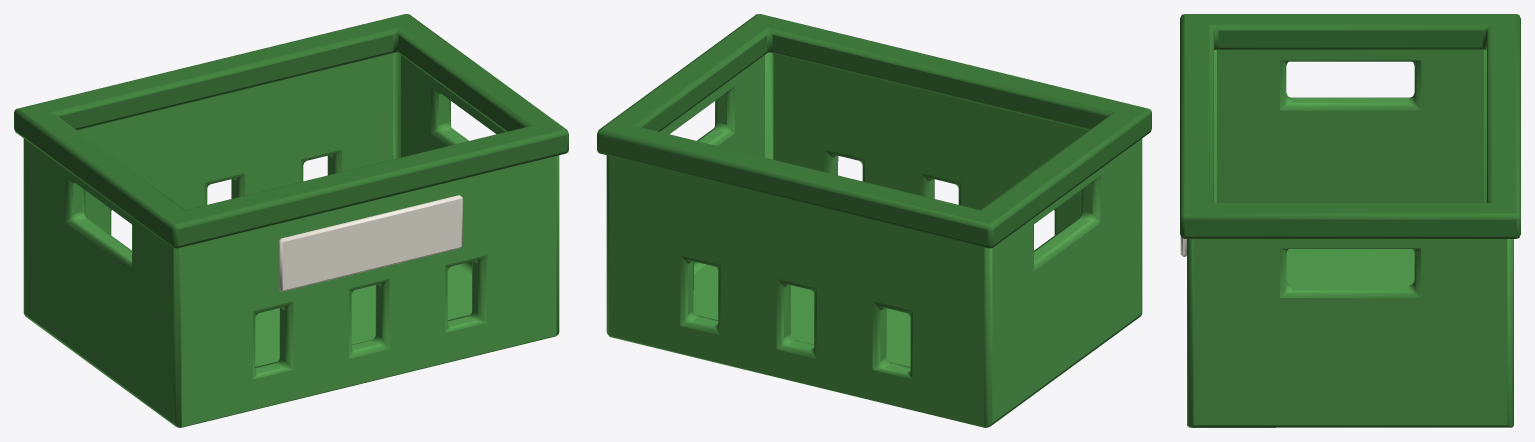
Rendered from Kitchen_Crate.fbx.
The picture shows the model from 3 angles, left to right: view 1: azimuth 30°, elevation 25°; view 2: azimuth 150°, elevation 25°; view 3: azimuth 270°, elevation 25°; orthographic projection. The views are drawn at different scales.
Parts seen in each view (by area): view 1: Body, Trim, Label; view 2: Body, Trim; view 3: Body, Trim.
Boxes of the visible parts, x1,y1,x2,y2 form: Body: (23, 52, 559, 427); Trim: (14, 14, 568, 248); Label: (278, 195, 462, 291); Body: (606, 52, 1142, 427); Trim: (597, 14, 1151, 248); Body: (1187, 50, 1513, 427); Trim: (1180, 14, 1520, 238).
Size of the model in its own units: 206 by 103 by 146.
